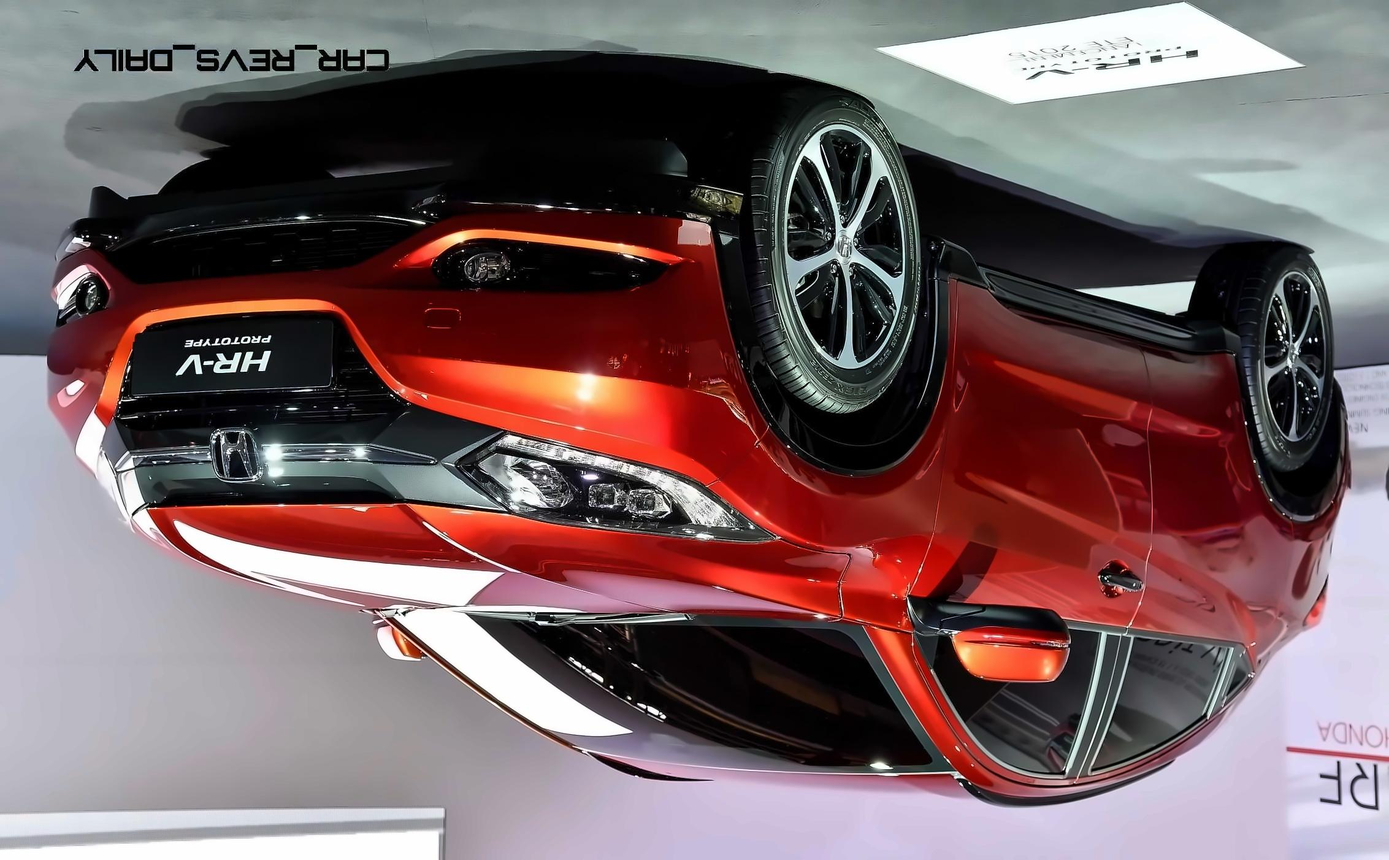Car hood: (117, 495, 854, 623)
Driver-s door - -F-R-: (945, 278, 1149, 792)
Fender - -F-R-: (703, 252, 947, 640)
Fender - -R-R-: (1264, 442, 1335, 627)
Front bumper: (39, 160, 779, 458)
Headlight - -R-: (442, 421, 781, 554)
Passenger-s door - -R-R-: (1108, 329, 1268, 781)
Rear light - -R-: (1286, 563, 1341, 656)
Side bumper - -R-: (924, 229, 1255, 372)
Side mirror - -L-: (364, 616, 436, 673)
Side mirror - -R-: (902, 589, 1075, 694)
